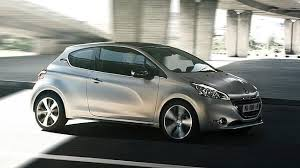car: (31, 42, 263, 141)
